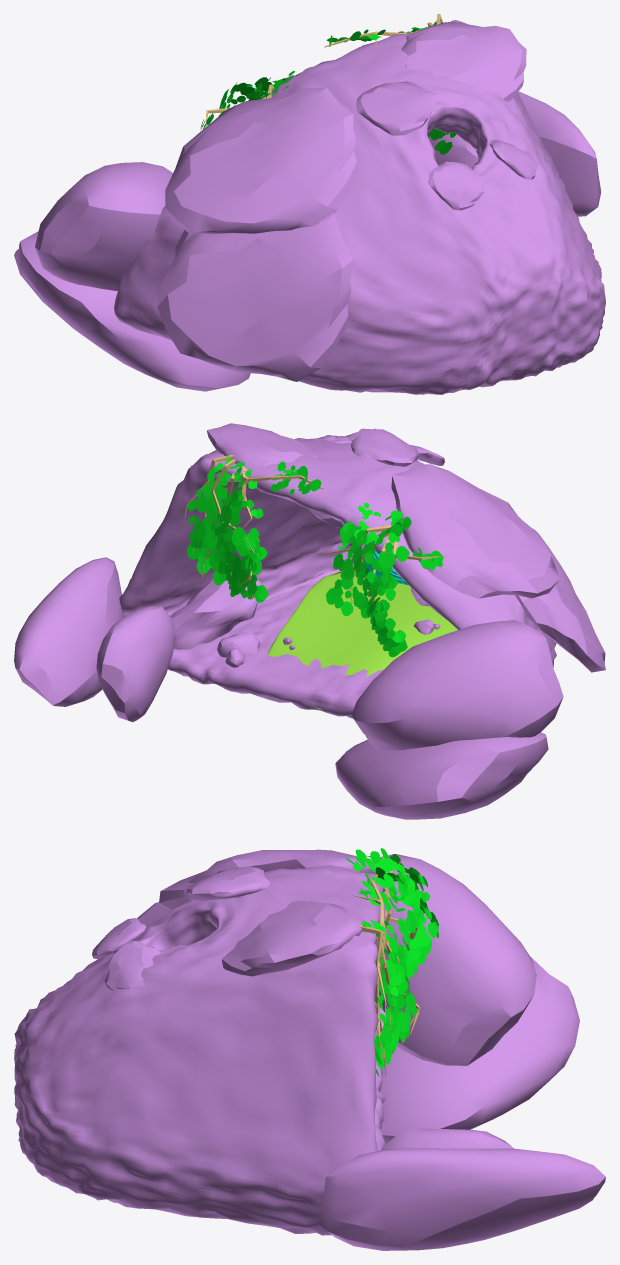
Rendered from cuevaUV.fbx.
The picture shows the model from 3 angles, top to bottom: view 1: azimuth 30°, elevation 25°; view 2: azimuth 150°, elevation 25°; view 3: azimuth 270°, elevation 25°; orthographic projection. The views are drawn at different scales.
Parts seen in each view (by area): view 1: cueva, rock.017, rock.015, rock.018, rock.014, rock.016, rock.012, rock.019, rock.020, rock.021, rock.013; view 2: cueva, rock.018, rock.015, rock.014, rock.012, pasarela cueva, rock.013, rock.017, rock.003, rock.016, rock.019, Cubo.001 (+2 smaller); view 3: cueva, rock.012, rock.018, rock.014, rock.016, rock.015, rock.013, rock.019, rock.021, Cubo.001, rock.020.
Part boxes in pixels (x1,y1,x2,y2): cueva: (114,20,605,394); rock.017: (157,213,353,381); rock.015: (165,87,357,234); rock.018: (35,162,172,290); rock.014: (14,231,250,391); rock.016: (401,21,526,101); rock.012: (518,91,601,216); rock.019: (356,81,437,135); rock.020: (428,161,484,210); rock.021: (489,140,537,179); rock.013: (428,133,478,168); cueva: (119,435,556,718); rock.018: (351,620,563,750); rock.015: (391,464,559,598); rock.014: (335,732,548,819); rock.012: (14,557,122,706); pasarela cueva: (267,570,457,709); rock.013: (96,606,175,722); rock.017: (515,521,605,672); rock.003: (170,579,260,649); rock.016: (206,423,317,469); rock.019: (351,428,419,466); Cubo.001: (180,455,323,599); cueva: (14,865,385,1235); rock.012: (320,1148,605,1250); rock.018: (375,854,536,1065); rock.014: (380,956,579,1143); rock.016: (222,900,365,976); rock.015: (159,849,376,909); rock.013: (380,1128,513,1150); rock.019: (183,866,270,900); rock.021: (104,941,160,990); Cubo.001: (352,874,419,1075); rock.020: (92,918,145,958).
Size of the model in its own units: 23679 by 13514 by 20965.
